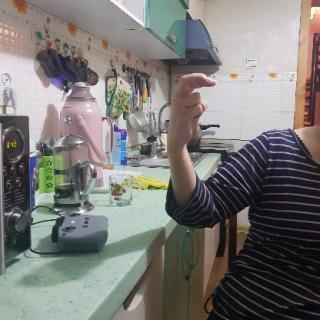ZAY: (163, 67, 220, 155)
